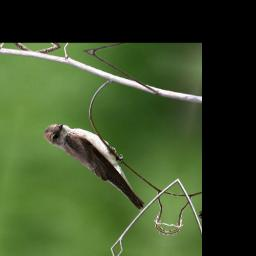Swallow: (30, 121, 161, 213)
